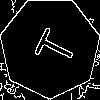T: (25, 22, 79, 70)
